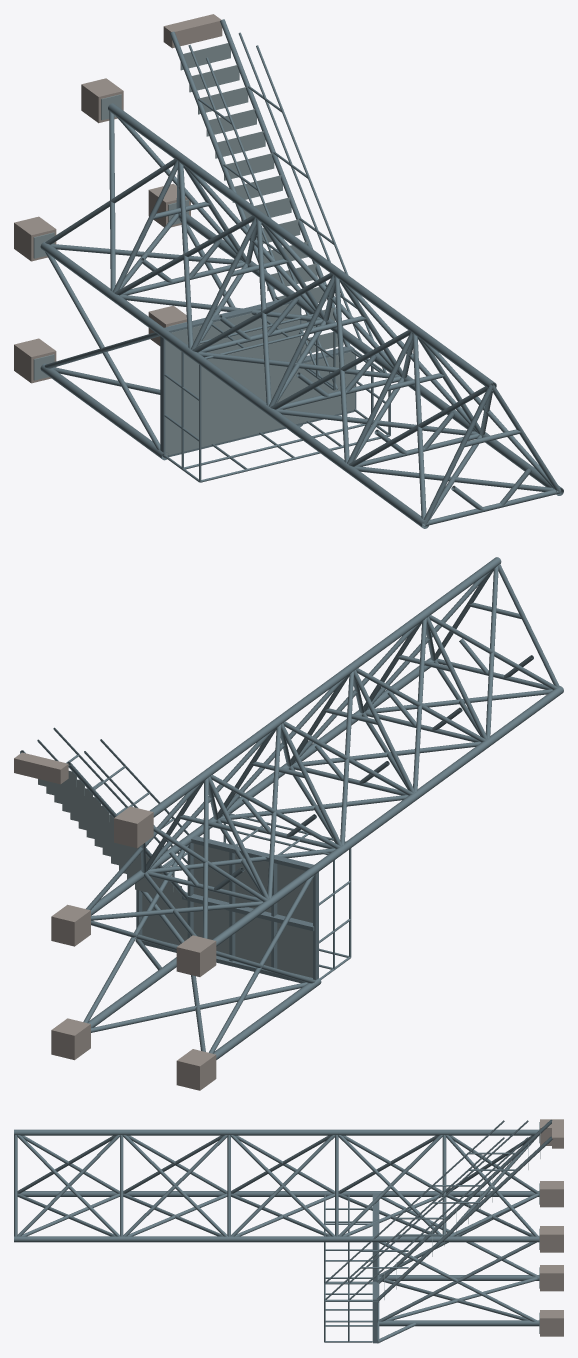
The model's file is F41B04-钢塔架.obj.
3 views of the same model, one above another, from view 1: azimuth 30°, elevation 25°; view 2: azimuth 150°, elevation 25°; view 3: azimuth 270°, elevation 25° (orthographic). The views are drawn at different scales.
Visible parts, largest first — view 1: 钢塔架_GJ03交叉撑, 钢塔架_GJ01立柱, 检修平台_6mm花纹钢板, 钢塔架_GJ02水平杆, 检修钢梯_踏步, 支墩_混凝土, 钢塔架_GJ04限位杆, 检修钢梯_斜栏杆, 检修平台_GJ07交叉撑, 检修钢梯_梯梁, 栏杆_LG2-1200, 检修钢梯_C15起步墩 (+5 smaller); view 2: 钢塔架_GJ03交叉撑, 钢塔架_GJ01立柱, 检修平台_6mm花纹钢板, 钢塔架_GJ02水平杆, 支墩_混凝土, 检修平台_GJ07交叉撑, 检修钢梯_踏步, 钢塔架_GJ04限位杆, 检修平台_GJ05横梁, 检修平台_GJ06纵梁, 检修钢梯_C15起步墩, 栏杆_LG2-1200 (+1 smaller); view 3: 钢塔架_GJ03交叉撑, 钢塔架_GJ01立柱, 检修平台_GJ07交叉撑, 支墩_混凝土, 检修钢梯_斜栏杆, 钢塔架_GJ02水平杆, 检修钢梯_梯梁, 栏杆_立杆, 检修钢梯_栏杆立杆, 检修平台_GJ05横梁, 栏杆_LG2-1200, 检修平台_GJ06纵梁 (+1 smaller).
Part boxes in pixels (x1=…): 钢塔架_GJ03交叉撑: x1=45, y1=111, x2=554, y2=525; 钢塔架_GJ01立柱: x1=40, y1=103, x2=563, y2=528; 检修平台_6mm花纹钢板: x1=165, y1=304, x2=354, y2=455; 钢塔架_GJ02水平杆: x1=112, y1=160, x2=561, y2=526; 检修钢梯_踏步: x1=180, y1=43, x2=343, y2=354; 支墩_混凝土: x1=14, y1=78, x2=190, y2=383; 钢塔架_GJ04限位杆: x1=140, y1=201, x2=531, y2=510; 检修钢梯_斜栏杆: x1=188, y1=32, x2=386, y2=389; 检修平台_GJ07交叉撑: x1=44, y1=219, x2=235, y2=456; 检修钢梯_梯梁: x1=170, y1=19, x2=350, y2=347; 栏杆_LG2-1200: x1=181, y1=314, x2=390, y2=482; 检修钢梯_C15起步墩: x1=163, y1=14, x2=222, y2=48; 钢塔架_GJ03交叉撑: x1=86, y1=565, x2=558, y2=938; 钢塔架_GJ01立柱: x1=88, y1=557, x2=563, y2=1059; 检修平台_6mm花纹钢板: x1=142, y1=843, x2=312, y2=977; 钢塔架_GJ02水平杆: x1=146, y1=564, x2=559, y2=901; 支墩_混凝土: x1=51, y1=806, x2=216, y2=1090; 检修平台_GJ07交叉撑: x1=83, y1=844, x2=315, y2=1053; 检修钢梯_踏步: x1=38, y1=770, x2=181, y2=900; 钢塔架_GJ04限位杆: x1=169, y1=602, x2=533, y2=890; 检修平台_GJ05横梁: x1=136, y1=836, x2=314, y2=983; 检修平台_GJ06纵梁: x1=136, y1=843, x2=318, y2=980; 检修钢梯_C15起步墩: x1=14, y1=752, x2=68, y2=784; 栏杆_LG2-1200: x1=172, y1=813, x2=351, y2=969; 钢塔架_GJ03交叉撑: x1=17, y1=1135, x2=538, y2=1236; 钢塔架_GJ01立柱: x1=14, y1=1129, x2=539, y2=1326; 检修平台_GJ07交叉撑: x1=378, y1=1197, x2=537, y2=1321; 支墩_混凝土: x1=540, y1=1119, x2=563, y2=1336; 检修钢梯_斜栏杆: x1=324, y1=1120, x2=528, y2=1300; 钢塔架_GJ02水平杆: x1=14, y1=1135, x2=446, y2=1236; 检修钢梯_梯梁: x1=377, y1=1119, x2=552, y2=1300; 栏杆_立杆: x1=325, y1=1208, x2=372, y2=1342; 检修钢梯_栏杆立杆: x1=325, y1=1152, x2=515, y2=1300; 检修平台_GJ05横梁: x1=373, y1=1193, x2=379, y2=1343; 栏杆_LG2-1200: x1=324, y1=1194, x2=349, y2=1342; 检修平台_GJ06纵梁: x1=373, y1=1242, x2=377, y2=1342.
Size of the model in its own units: 4.07 by 5.91 by 13.8.
